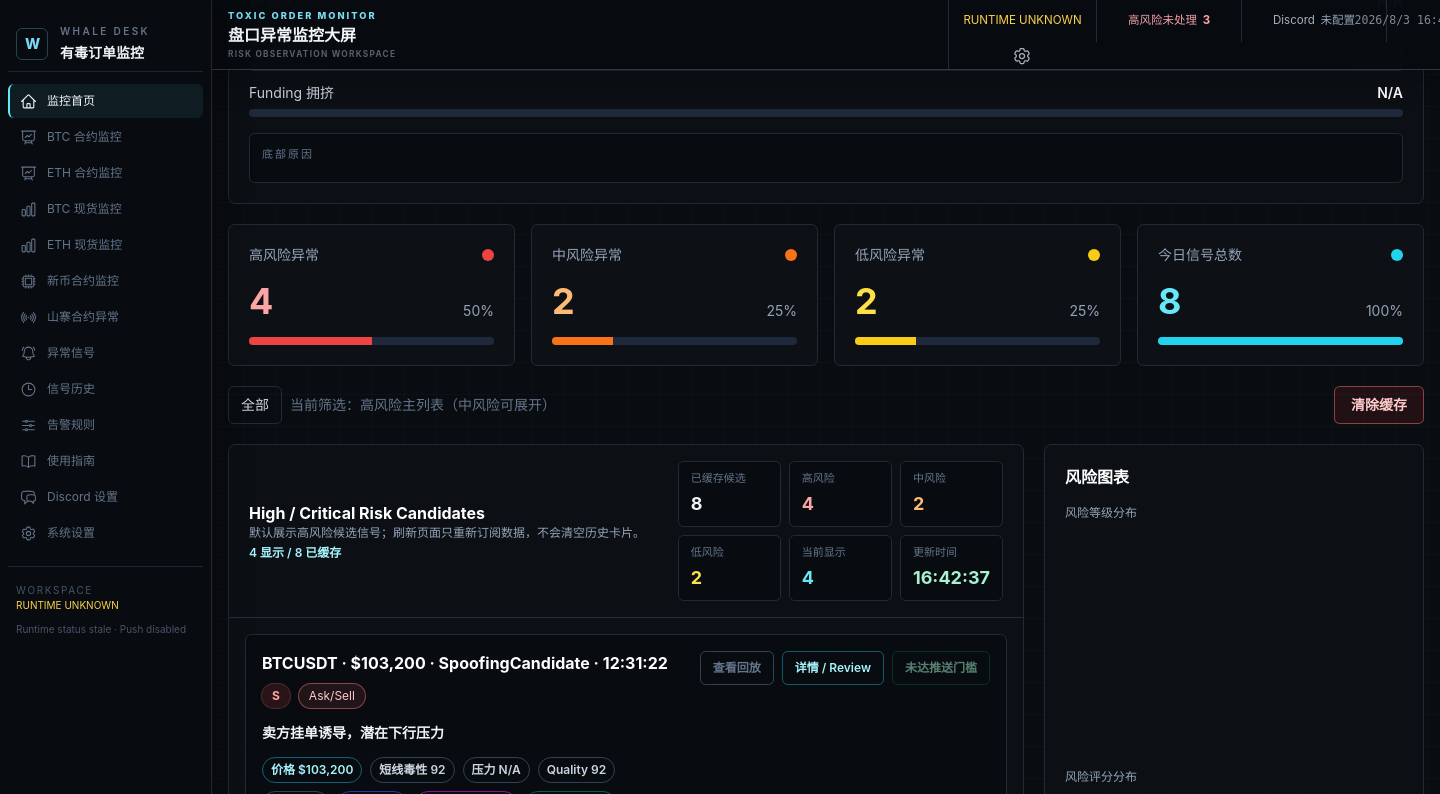
Test: Signal inbox clear cache › clears the page cache after confirmation
(page scrolled)
Click the button "清除缓存" at {"x": 1379, "y": 405}, box [1334,386,1424,424]
(page scrolled)
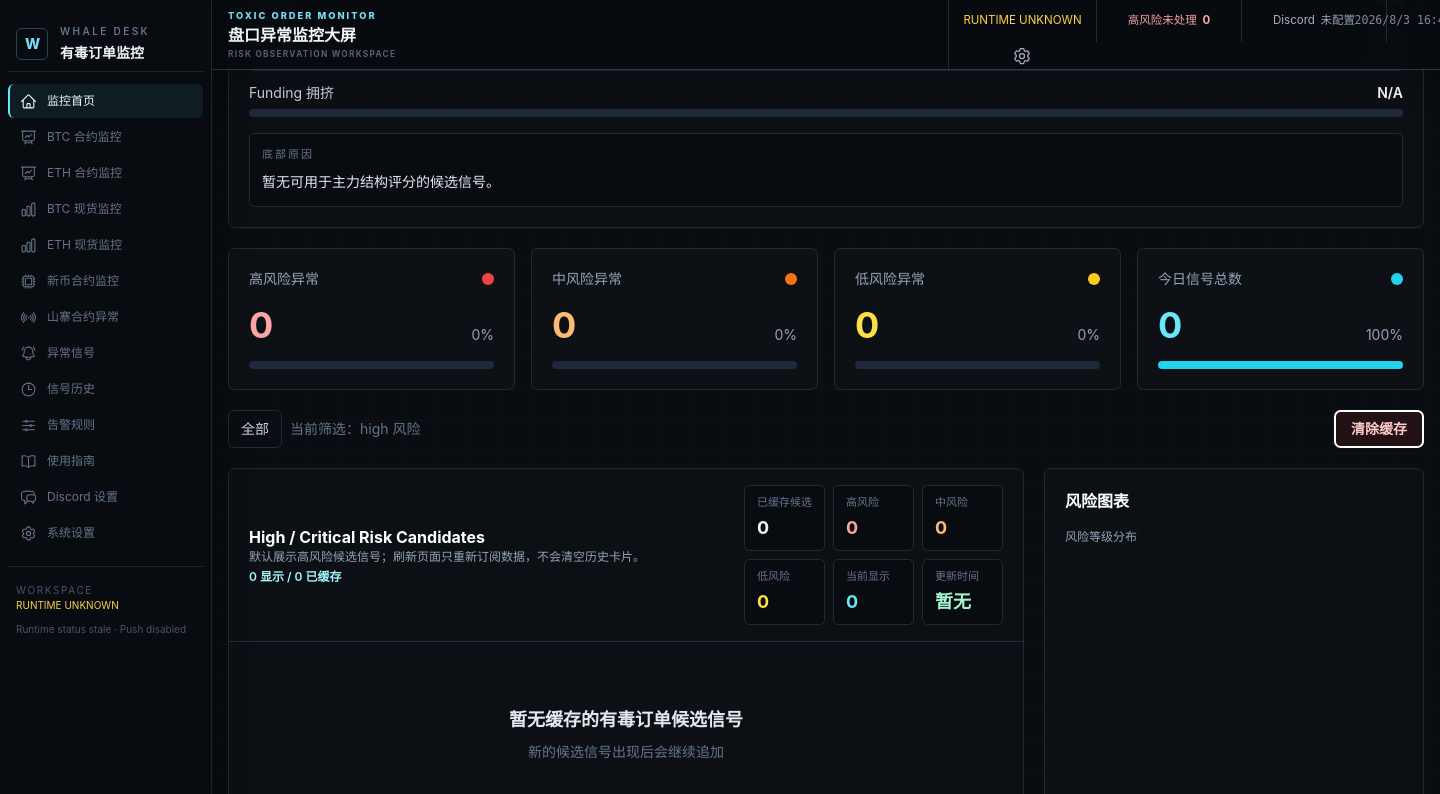
Expected: the text "暂无缓存的有毒订单候选信号" is shown, [509,709,743,730]
Expected: the text "新的候选信号出现后会继续追加" is shown, [528,743,724,760]
